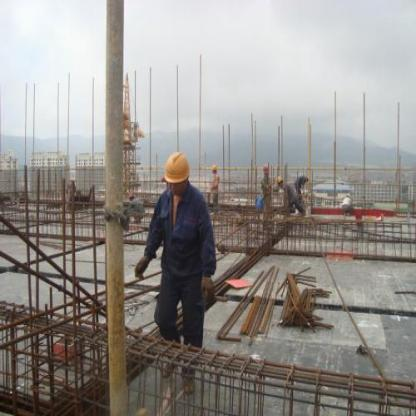helmet: (164, 151, 190, 196), (261, 162, 271, 177), (210, 161, 218, 175), (277, 174, 284, 188)
